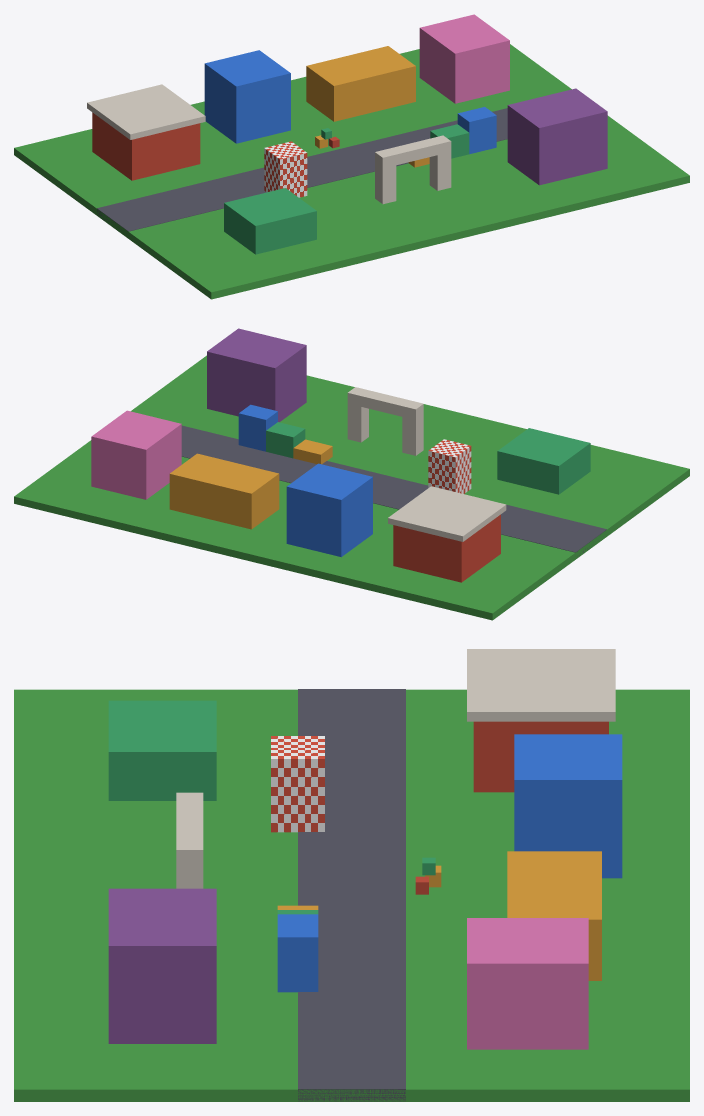
The model's file is blockville.glb.
3 views of the same model, one above another, from view 1: azimuth 30°, elevation 25°; view 2: azimuth 150°, elevation 25°; view 3: azimuth 270°, elevation 25° (orthographic). The views are drawn at different scales.
Parts seen in each view (by area): view 1: ground, road, bldgF, bldgB, bldgD, bldgC, bldgE, bldgA, bldgA-roof, checkerTower, arch-top, step3 (+3 smaller); view 2: ground, road, bldgF, bldgB, bldgD, bldgC, bldgE, bldgA, bldgA-roof, checkerTower, arch-top, step3 (+4 smaller); view 3: ground, road, bldgF, bldgD, bldgB, bldgA-roof, bldgE, bldgC, checkerTower, bldgA, step3, arch-top.
Boxes of the visible parts, bbox=[...] form: ground: bbox=[14, 44, 689, 299]; road: bbox=[97, 108, 507, 231]; bldgF: bbox=[507, 88, 607, 185]; bldgB: bbox=[204, 50, 290, 143]; bldgD: bbox=[419, 14, 509, 103]; bldgC: bbox=[306, 46, 415, 121]; bldgE: bbox=[224, 188, 316, 254]; bldgA: bbox=[92, 112, 200, 180]; bldgA-roof: bbox=[87, 84, 205, 139]; checkerTower: bbox=[264, 141, 307, 197]; arch-top: bbox=[375, 135, 451, 168]; step3: bbox=[457, 107, 496, 154]; ground: bbox=[14, 355, 689, 620]; road: bbox=[181, 425, 606, 557]; bldgF: bbox=[207, 328, 306, 422]; bldgB: bbox=[286, 463, 372, 557]; bldgD: bbox=[91, 410, 181, 499]; bldgC: bbox=[169, 453, 279, 529]; bldgE: bbox=[497, 428, 590, 494]; bldgA: bbox=[393, 514, 500, 582]; bldgA-roof: bbox=[388, 486, 506, 541]; checkerTower: bbox=[428, 439, 471, 493]; arch-top: bbox=[347, 387, 423, 419]; step3: bbox=[238, 404, 277, 451]; ground: bbox=[14, 689, 689, 1101]; road: bbox=[298, 689, 405, 1101]; bldgF: bbox=[108, 888, 216, 1043]; bldgD: bbox=[467, 918, 588, 1049]; bldgB: bbox=[514, 734, 622, 878]; bldgA-roof: bbox=[467, 649, 615, 721]; bldgE: bbox=[108, 700, 216, 800]; bldgC: bbox=[507, 851, 601, 980]; checkerTower: bbox=[271, 736, 324, 832]; bldgA: bbox=[473, 721, 608, 792]; step3: bbox=[277, 914, 318, 992]; arch-top: bbox=[176, 792, 203, 868].
Bounding box in the file's own units: 70 × 9 × 50.
10 materials, 1 textured.
